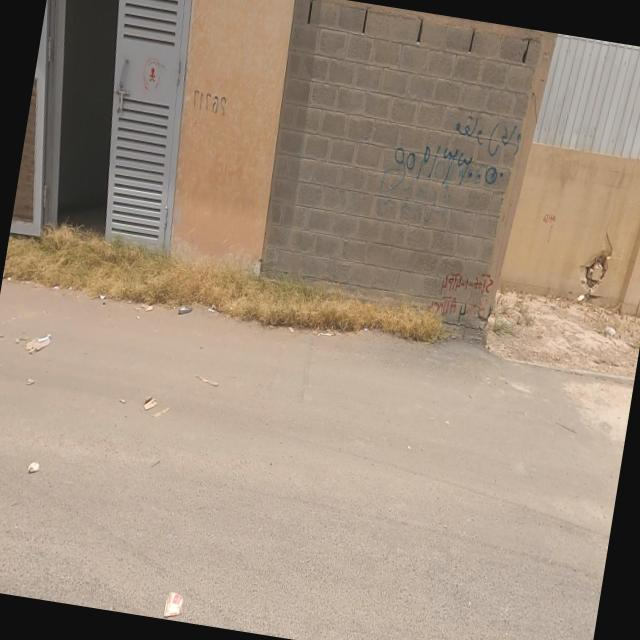Graffiti: (394, 103, 529, 199), (435, 265, 497, 322), (192, 87, 233, 118), (541, 211, 560, 242)
